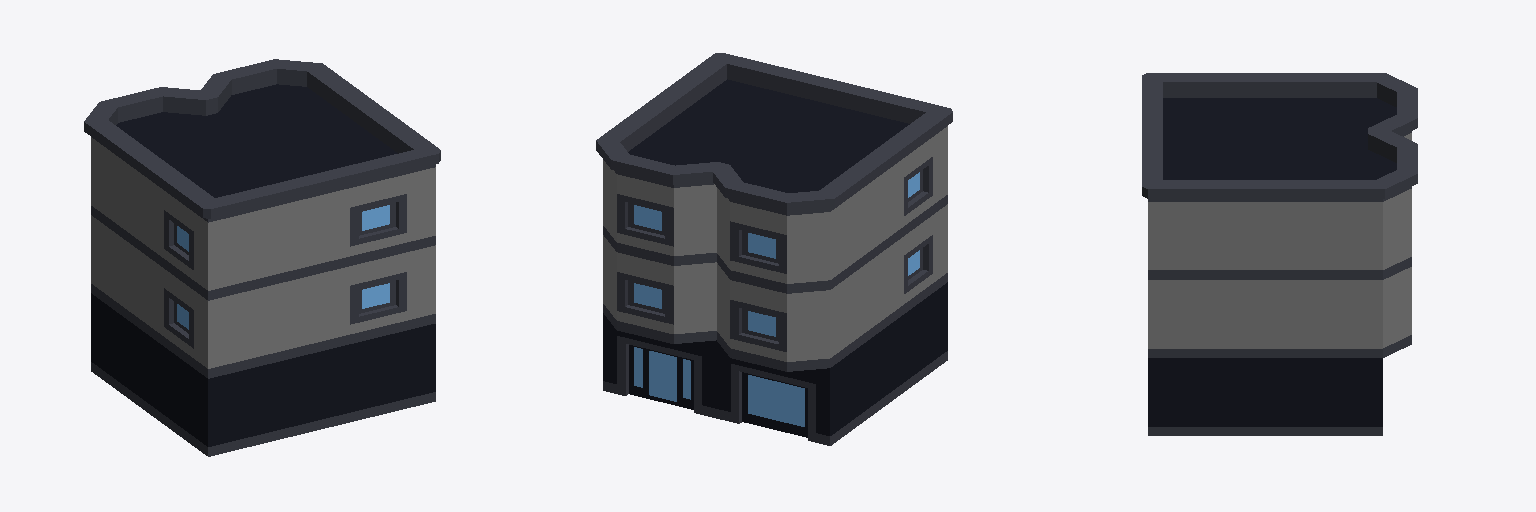
3 renders of one model, left to right at view 1: azimuth 30°, elevation 25°; view 2: azimuth 150°, elevation 25°; view 3: azimuth 270°, elevation 25°, orthographic.
Parts seen in each view (by area): view 1: Building; view 2: Building; view 3: Building.
Part boxes in pixels (left/top/right/bottom): Building: left=84, top=59, right=440, bottom=456; Building: left=596, top=53, right=952, bottom=445; Building: left=1142, top=73, right=1417, bottom=435.
Size of the model in its own units: 0.32 by 0.32 by 0.32.